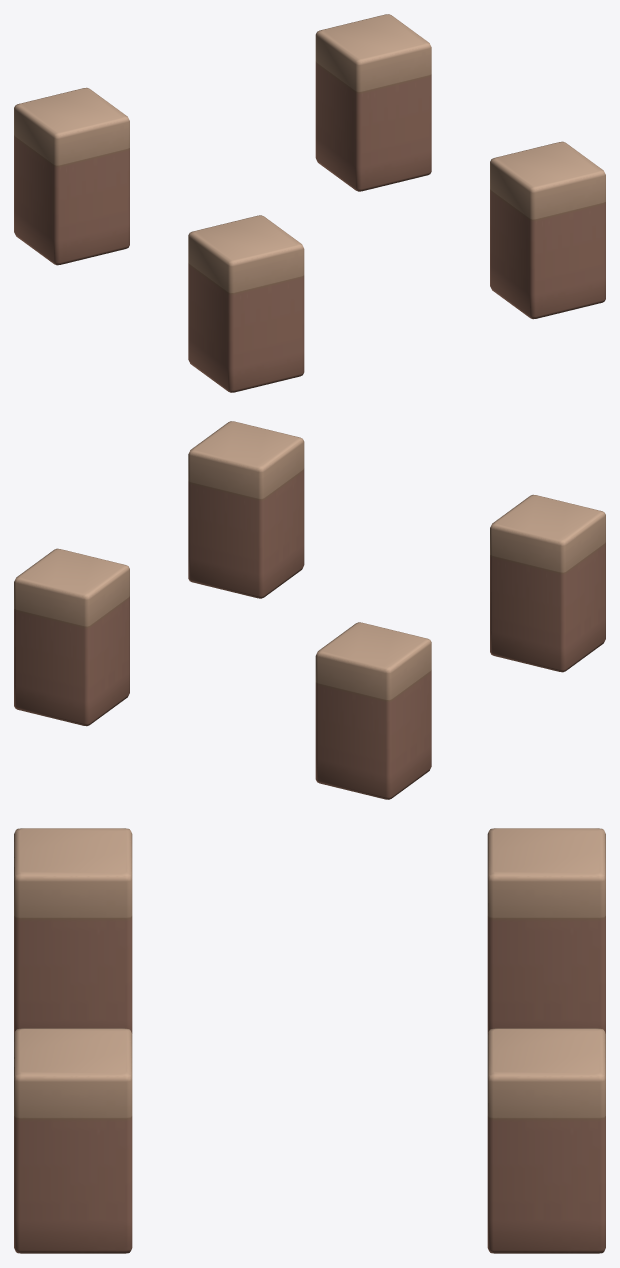
File: Props.fbx
The picture shows the model from 3 angles, top to bottom: view 1: azimuth 30°, elevation 25°; view 2: azimuth 150°, elevation 25°; view 3: azimuth 270°, elevation 25°; orthographic projection. The views are drawn at different scales.
Visible parts, largest first — view 1: Box03, Box03 (3), Box03 (1), Box03 (2); view 2: Box03 (1), Box03 (2), Box03, Box03 (3); view 3: Box03, Box03 (1), Box03 (2), Box03 (3).
Boxes of the visible parts, x1,y1,x2,y2 form: Box03: [315, 14, 431, 191]; Box03 (3): [188, 215, 304, 392]; Box03 (1): [490, 141, 605, 319]; Box03 (2): [14, 87, 129, 265]; Box03 (1): [188, 421, 304, 598]; Box03 (2): [315, 622, 431, 799]; Box03: [14, 548, 129, 726]; Box03 (3): [490, 494, 605, 672]; Box03: [487, 1028, 605, 1253]; Box03 (1): [14, 1028, 132, 1253]; Box03 (2): [487, 828, 605, 1033]; Box03 (3): [14, 828, 132, 1033].
Bounding box in the file's own units: 15 × 5.01 × 15.
1 material, 1 textured.
